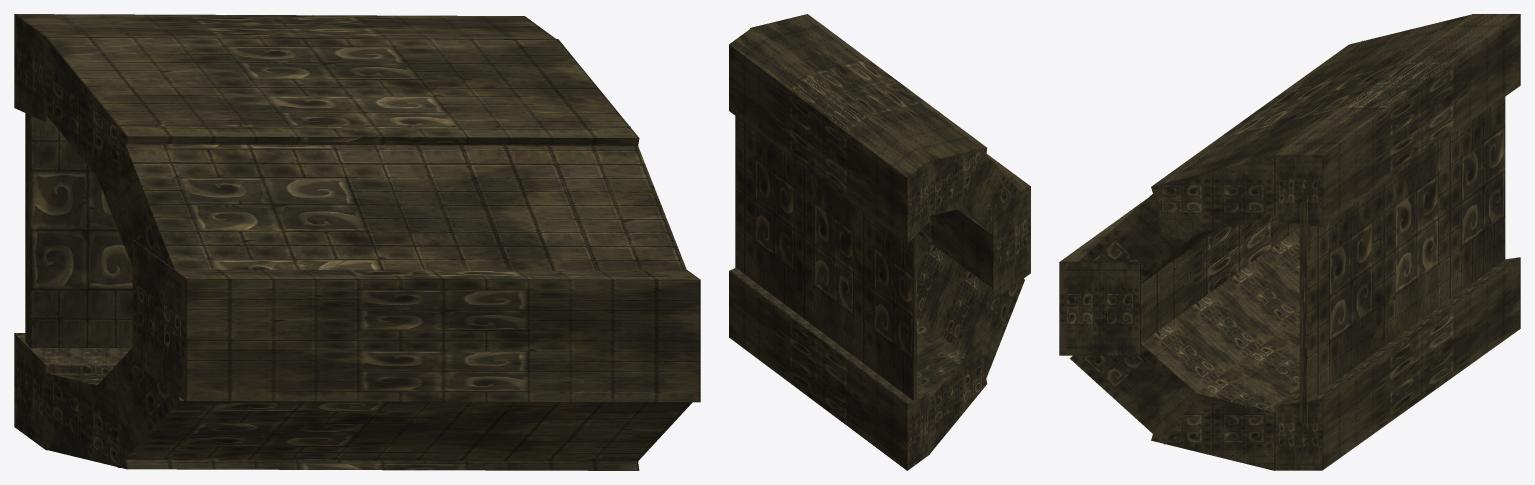
File: cooridor2dp_wtf.obj
The picture shows the model from 3 angles, left to right: view 1: azimuth 30°, elevation 25°; view 2: azimuth 150°, elevation 25°; view 3: azimuth 270°, elevation 25°; orthographic projection. The views are drawn at different scales.
Visible parts, largest first — view 1: group2; view 2: group2; view 3: group2.
Boxes of the visible parts, x1,y1,x2,y2 form: group2: (14,14,700,470); group2: (729,14,1030,470); group2: (1059,14,1520,470).
Size of the model in its own units: 485 by 497 by 660.
